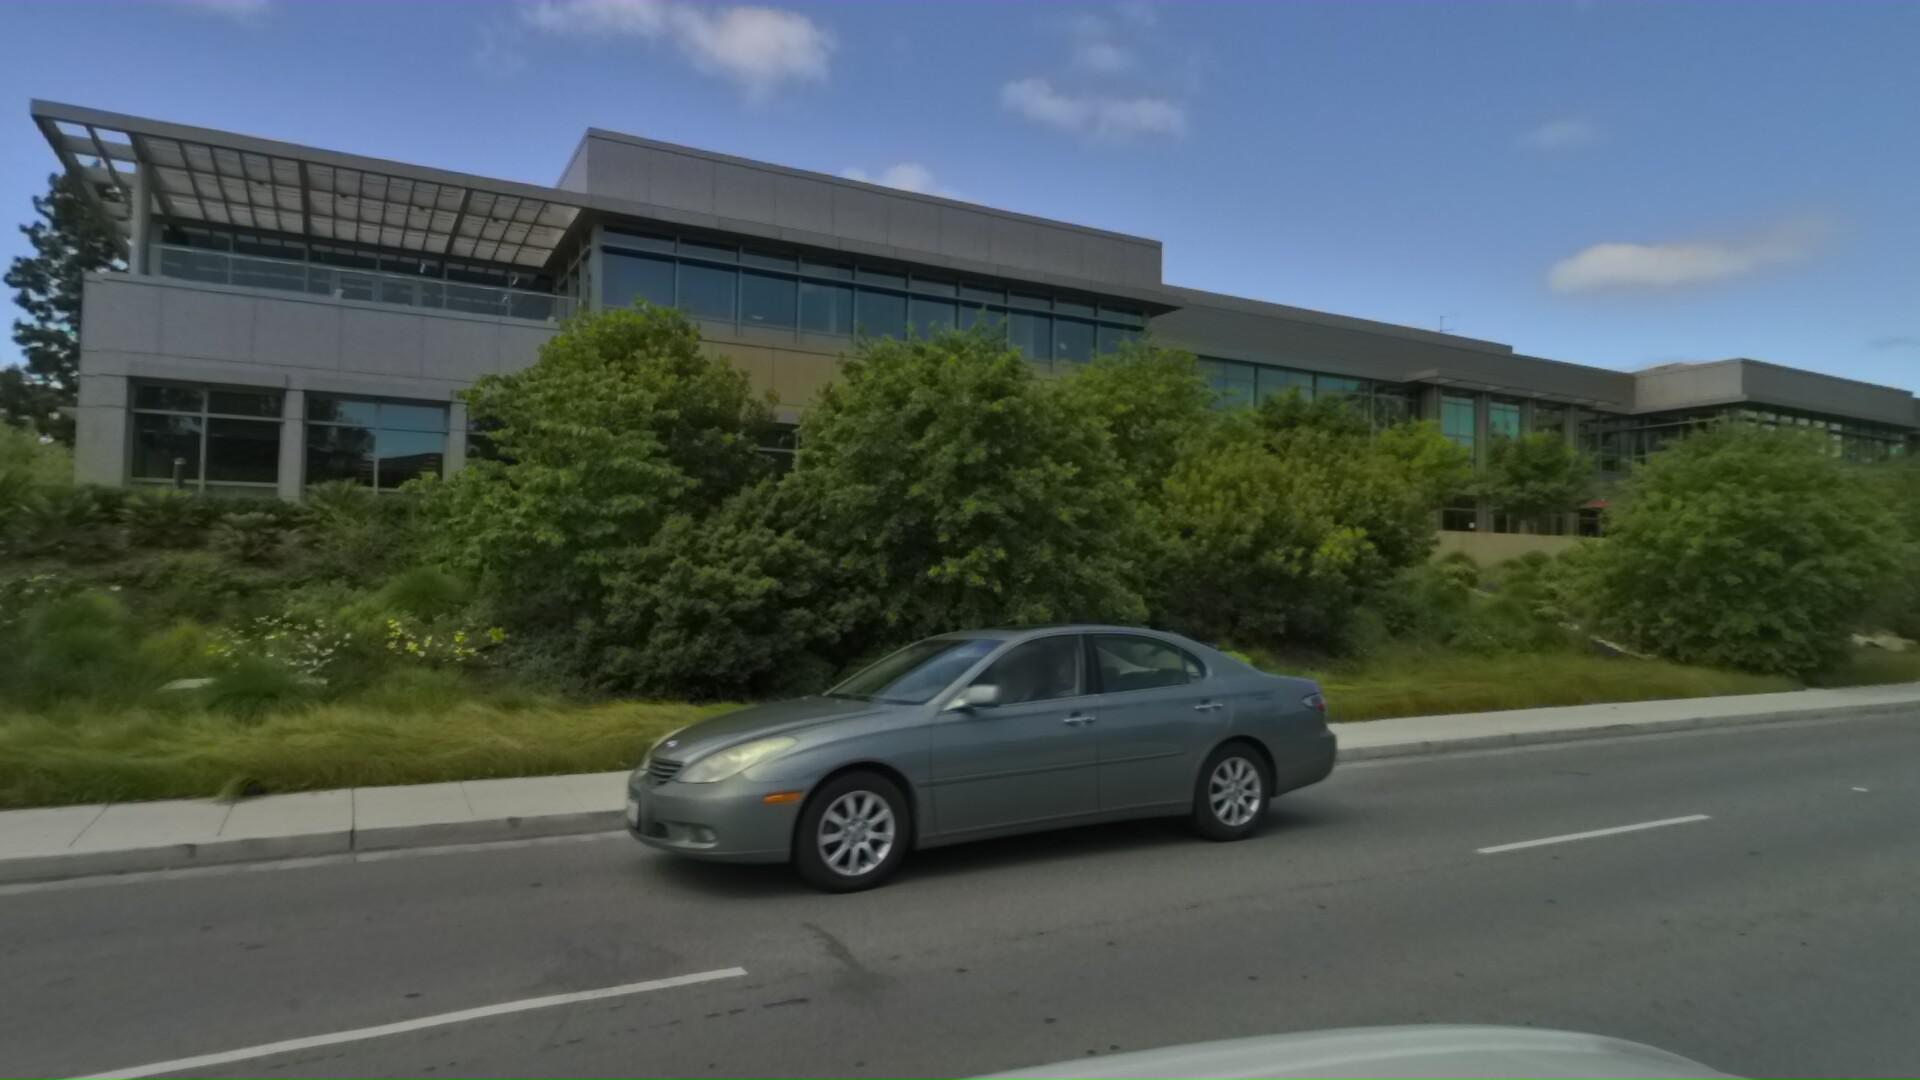car: (520, 611, 1313, 1021)
other_vehicle: (1898, 454, 1920, 607)
